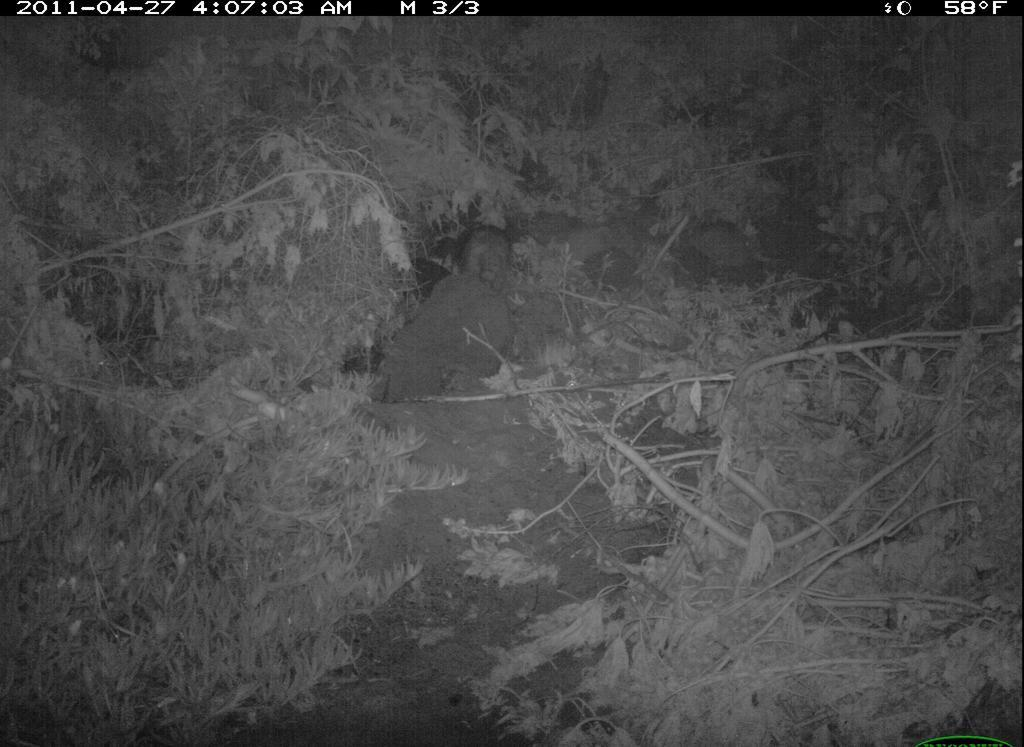raccoon: (454, 210, 529, 299)
